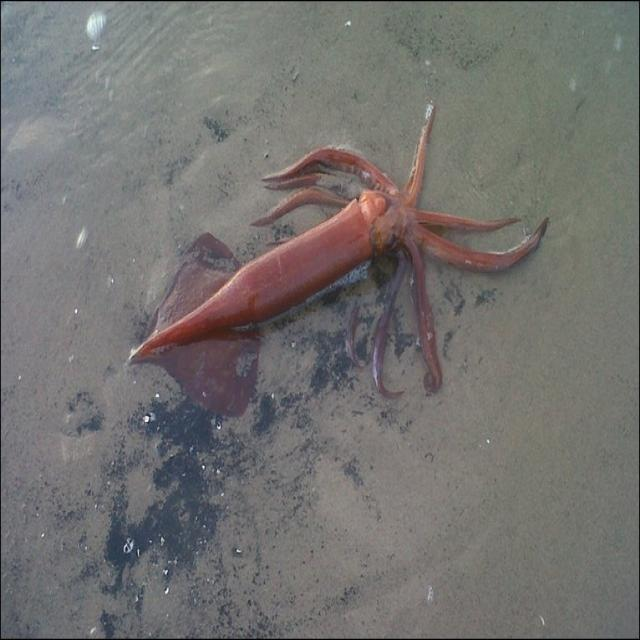SQUID: (119, 111, 517, 412)
